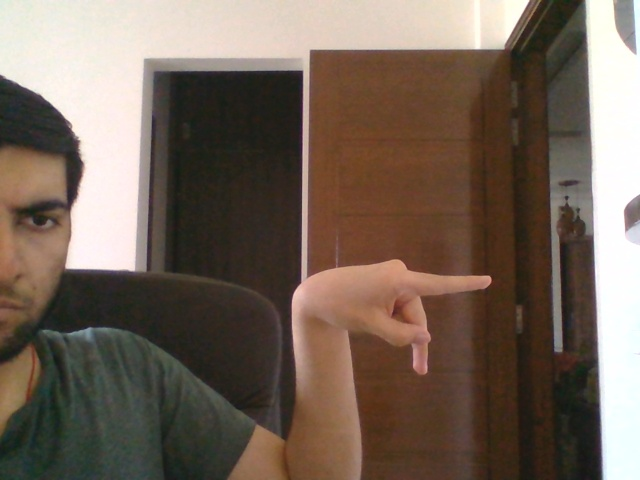LetterP: (289, 258, 493, 377)
